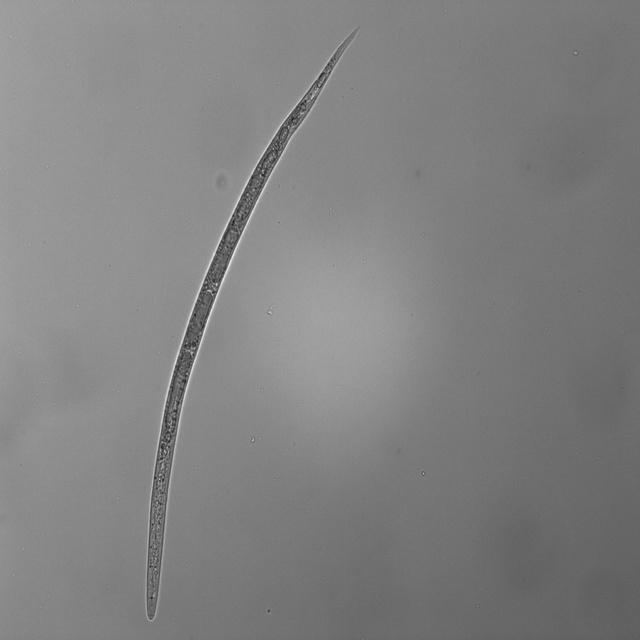Meloidogyne: (139, 25, 364, 622)
